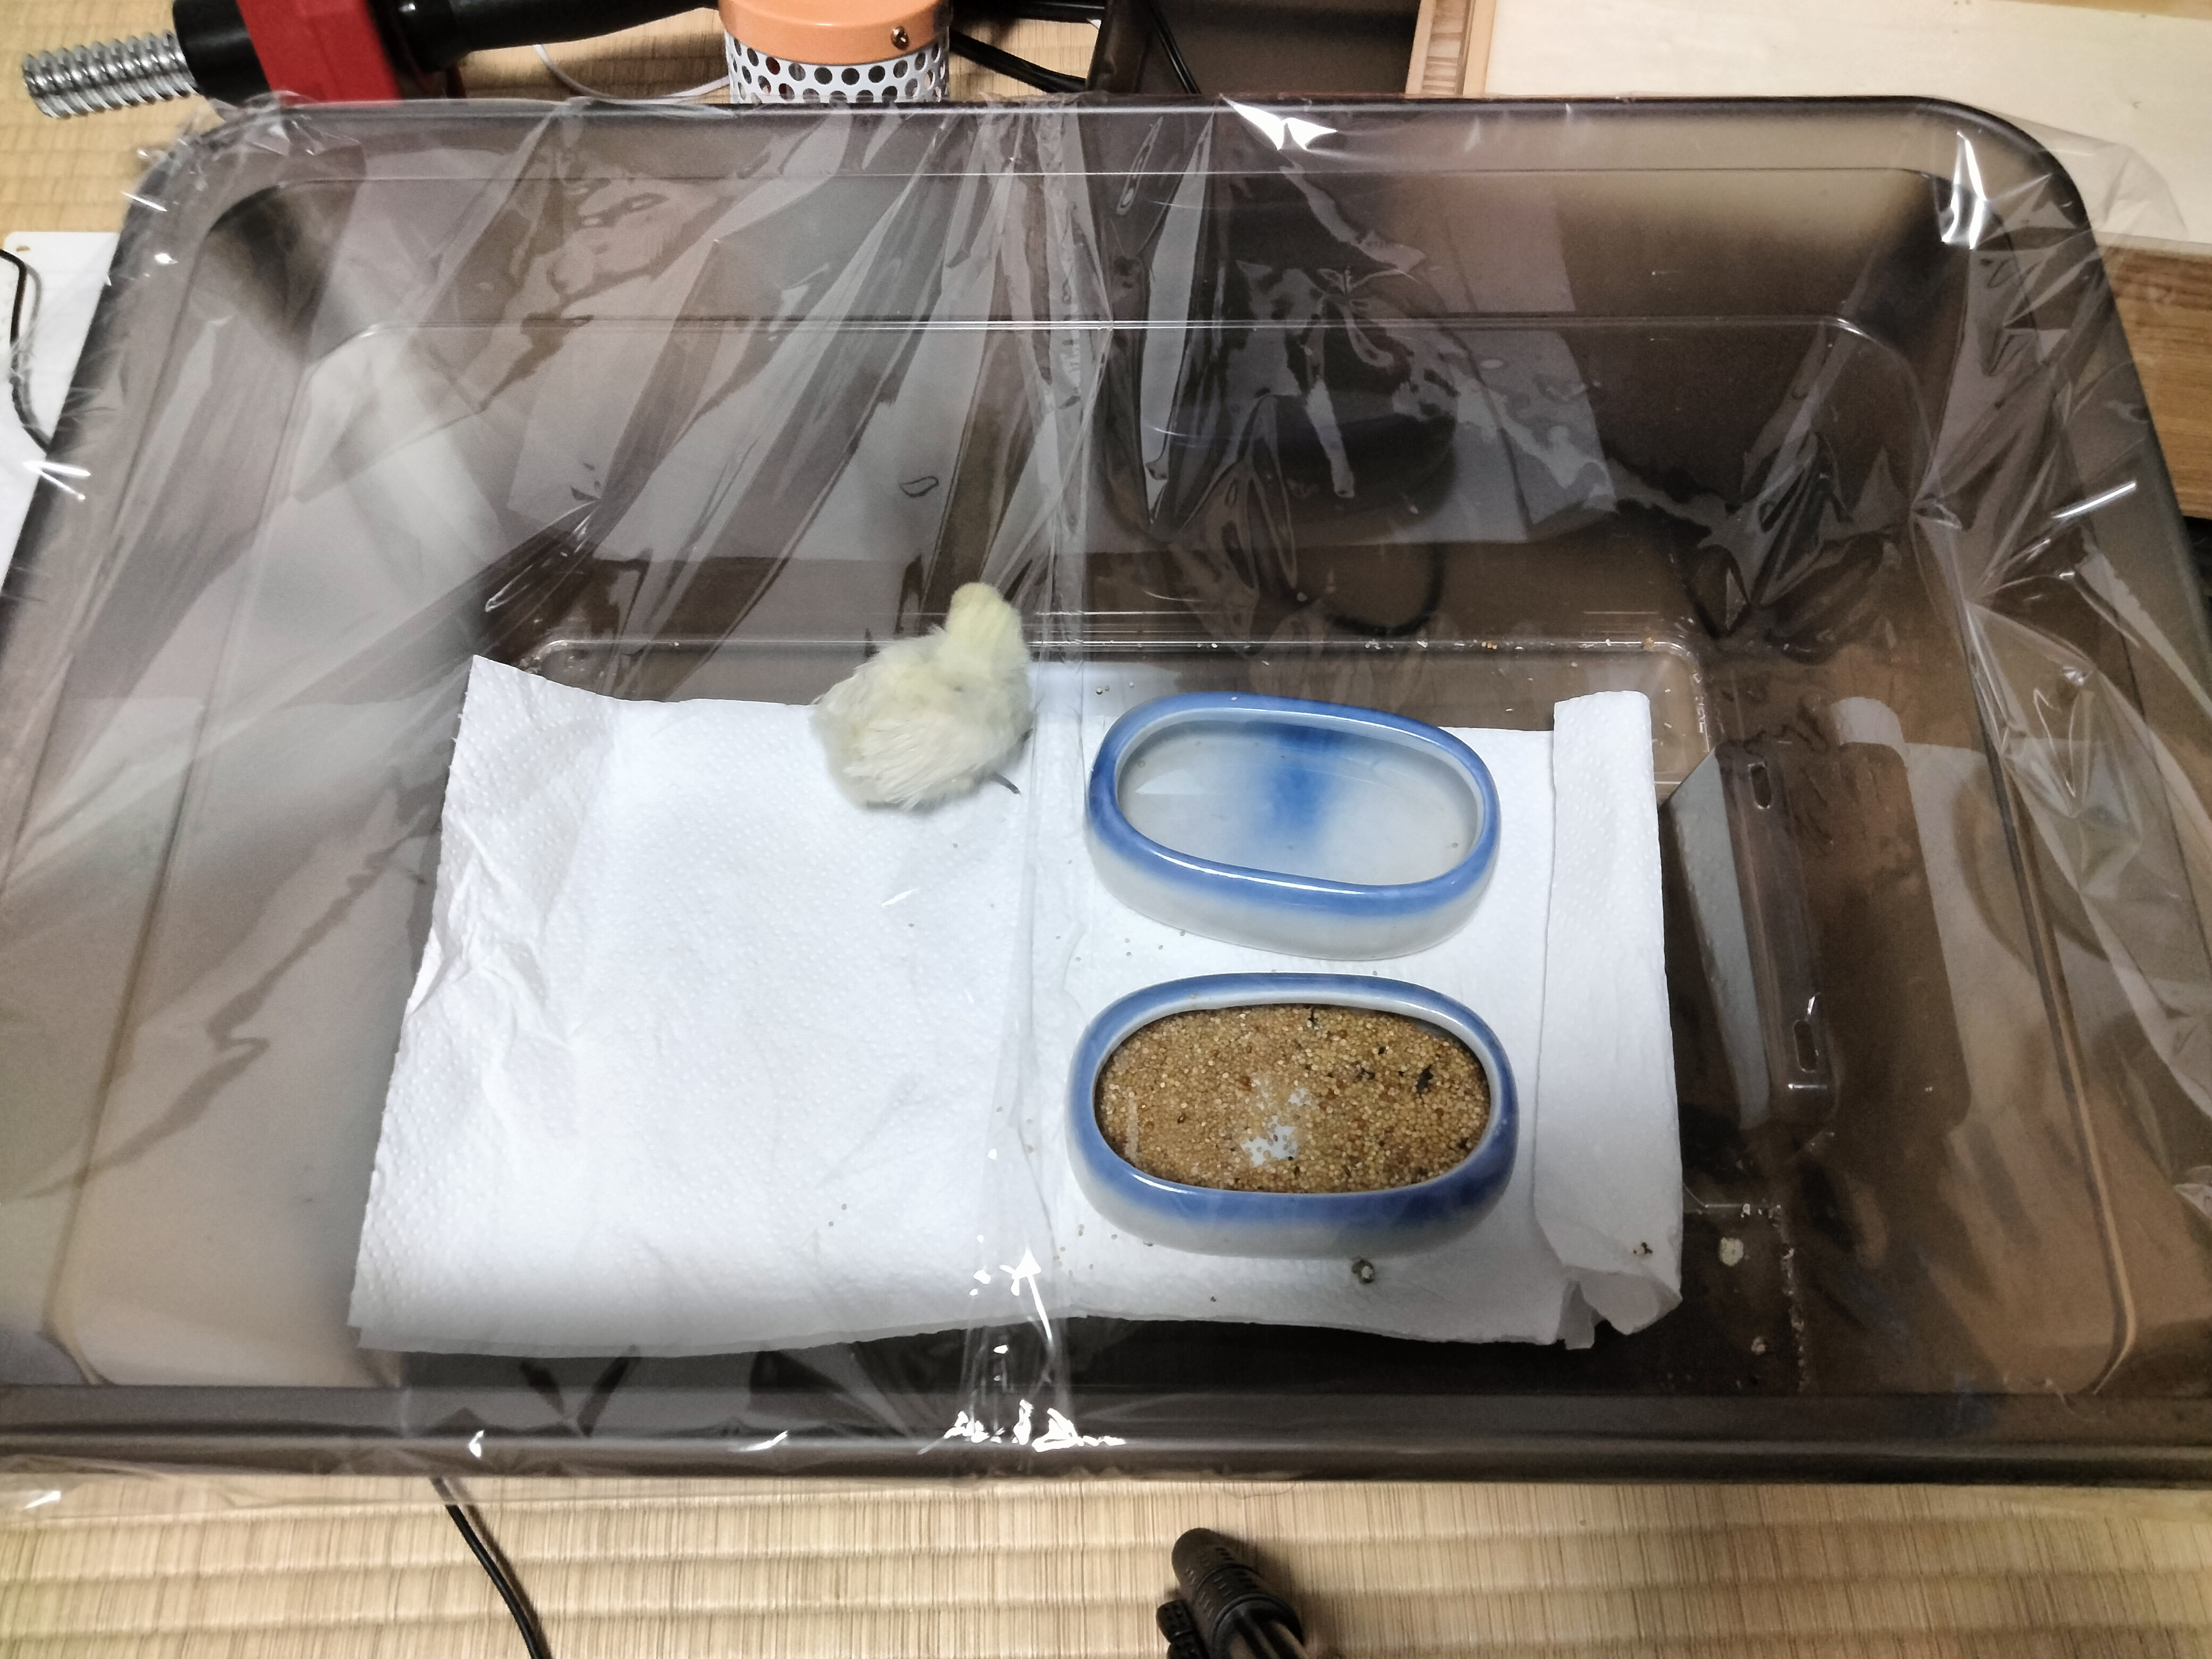shiro: (787, 528, 1076, 828)
